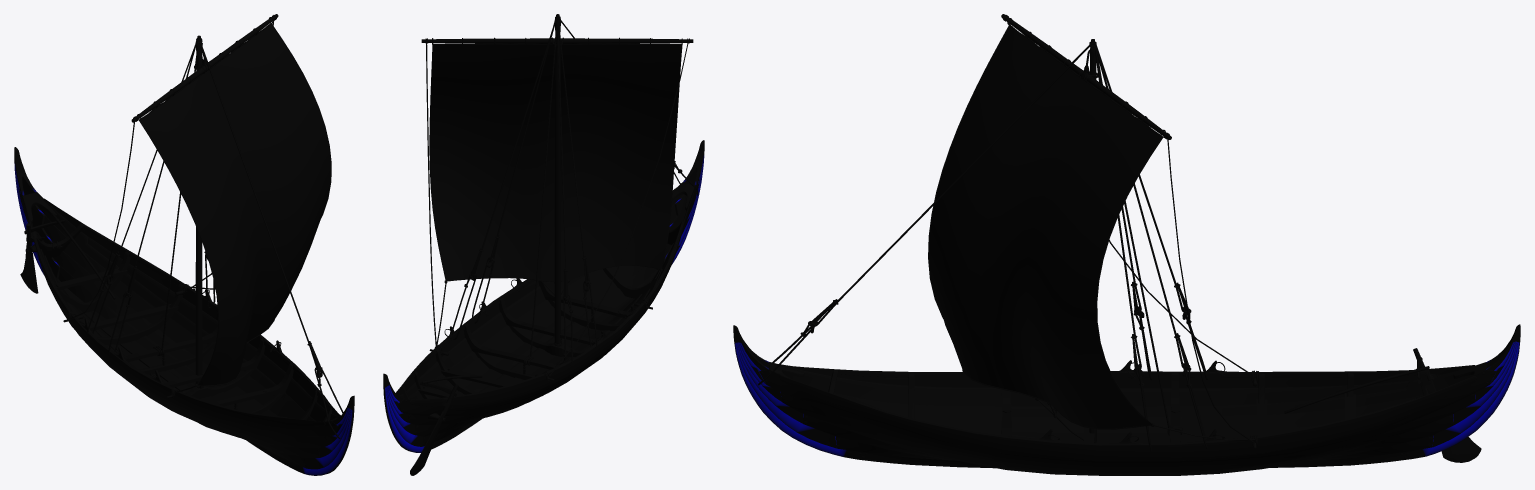
Rendered from Boat.fbx.
3 renders of one model, left to right at view 1: azimuth 30°, elevation 25°; view 2: azimuth 150°, elevation 25°; view 3: azimuth 270°, elevation 25°, orthographic. The views are drawn at different scales.
Visible parts, largest first — view 1: Boat; view 2: Boat; view 3: Boat.
Part boxes in pixels (x1,y1,x2,y2): Boat: (14, 14, 354, 475); Boat: (383, 14, 704, 475); Boat: (733, 14, 1520, 475).
Size of the model in its own units: 315 by 464 by 771.
